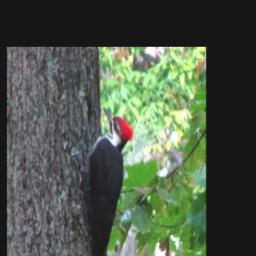Woodpecker: (72, 106, 136, 256)
